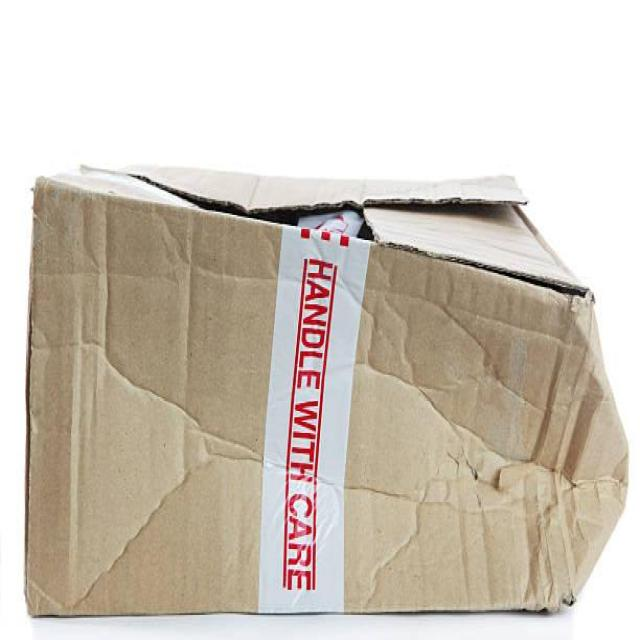cardboard: (23, 166, 629, 620)
